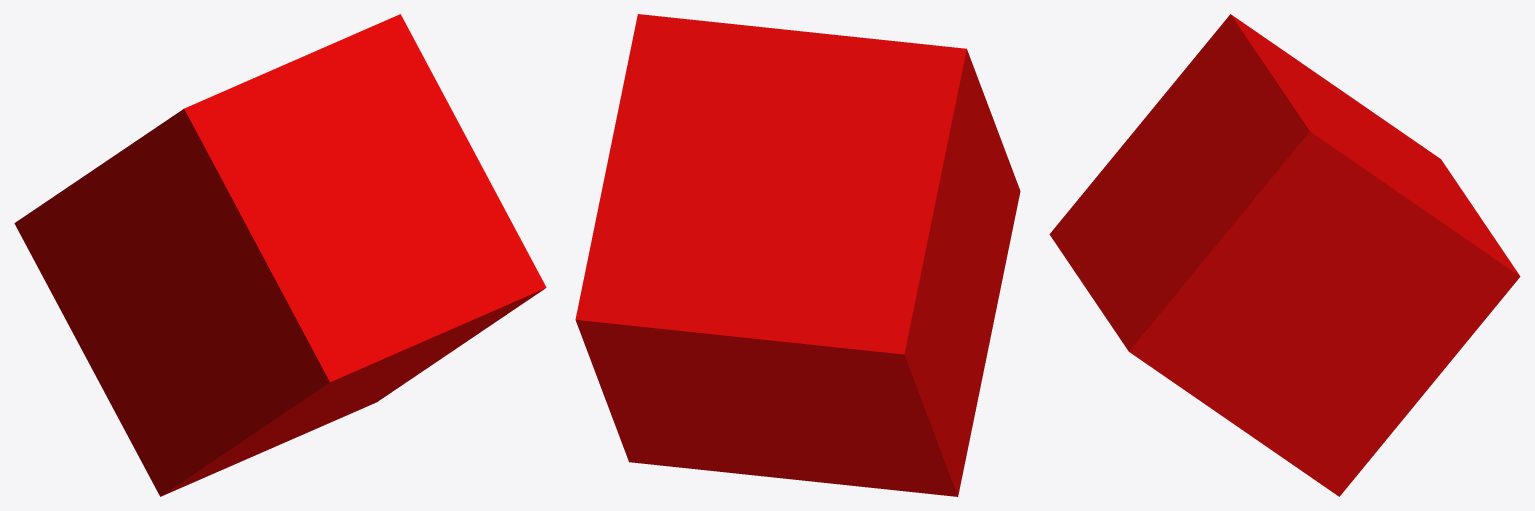
The picture shows the model from 3 angles, left to right: view 1: azimuth 30°, elevation 25°; view 2: azimuth 150°, elevation 25°; view 3: azimuth 270°, elevation 25°; orthographic projection. The views are drawn at different scales.
Parts seen in each view (by area): view 1: Mesh; view 2: Mesh; view 3: Mesh.
Part boxes in pixels (x1,y1,x2,y2): Mesh: [14, 14, 546, 496]; Mesh: [575, 14, 1020, 496]; Mesh: [1049, 14, 1520, 496].
Size of the model in its own units: 2.7 by 2.82 by 3.26.
